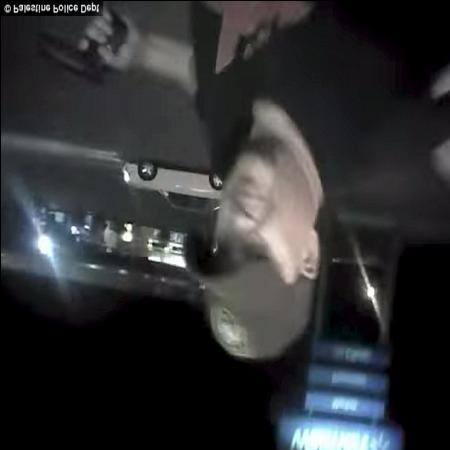Pistol: (34, 17, 132, 88)
